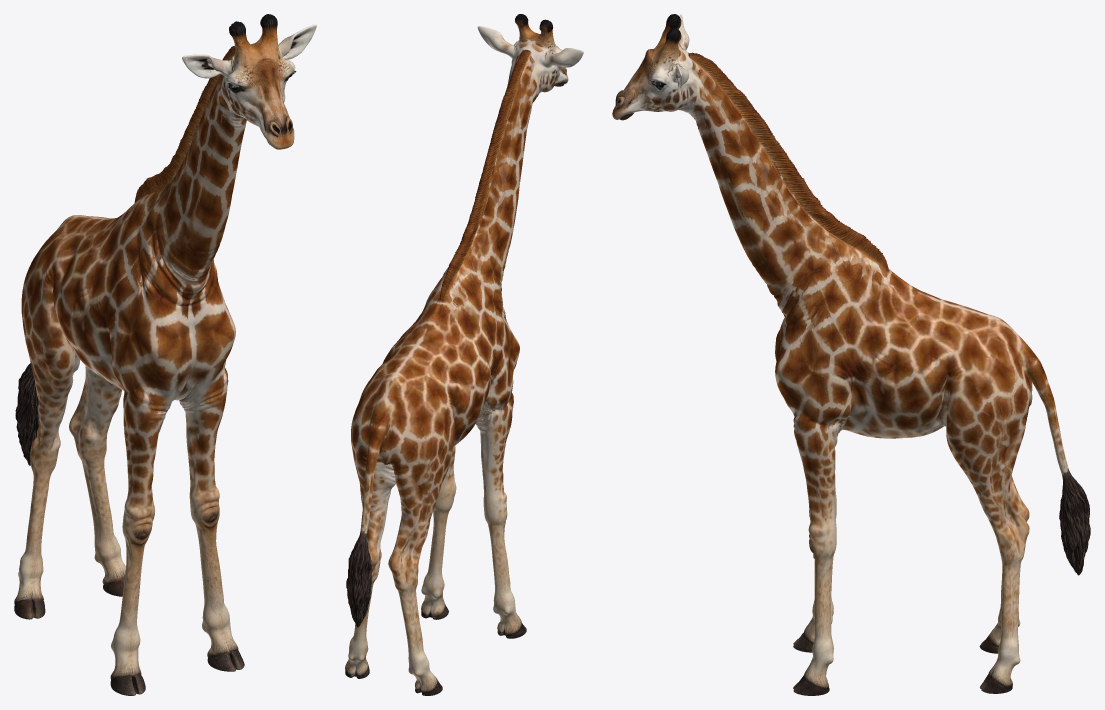
File: wild-giraffe.glb
3 renders of one model, left to right at view 1: azimuth 30°, elevation 25°; view 2: azimuth 150°, elevation 25°; view 3: azimuth 270°, elevation 25°, orthographic. The views are drawn at different scales.
Parts seen in each view (by area): view 1: giraffe; view 2: giraffe; view 3: giraffe.
Part boxes in pixels (bbox=[...]): giraffe: bbox=[14, 14, 316, 695]; giraffe: bbox=[345, 14, 583, 695]; giraffe: bbox=[612, 14, 1090, 695].
Size of the model in its own units: 1.03 by 5.2 by 3.48.
1 material, 1 textured.
